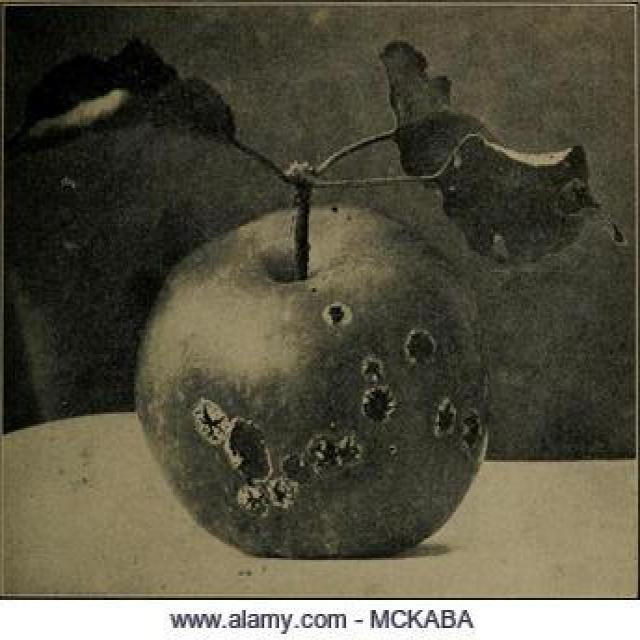Apple: (140, 200, 488, 570)
